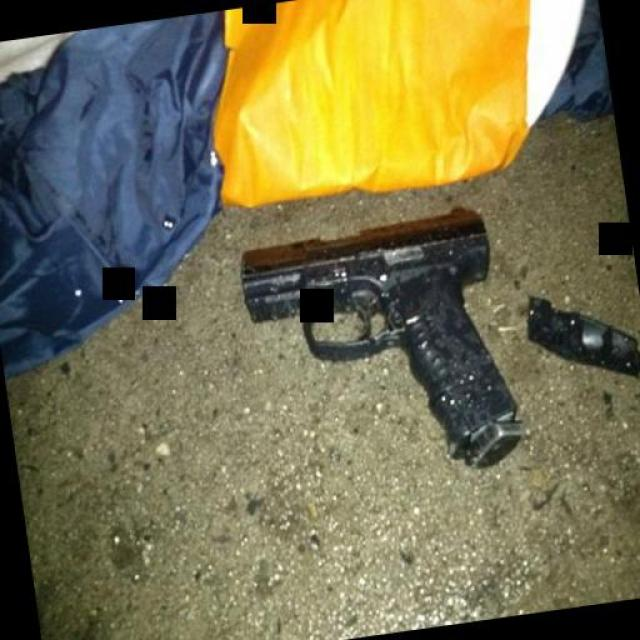gun: (227, 198, 538, 502)
